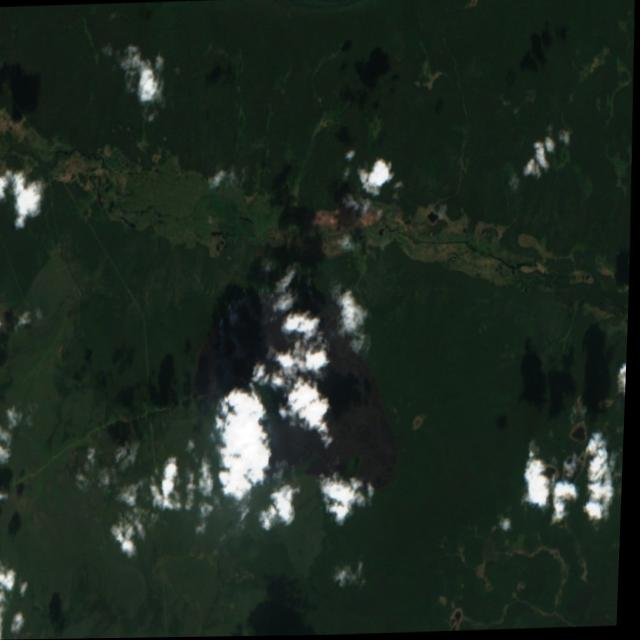fire: (207, 267, 338, 331), (553, 449, 592, 518)
